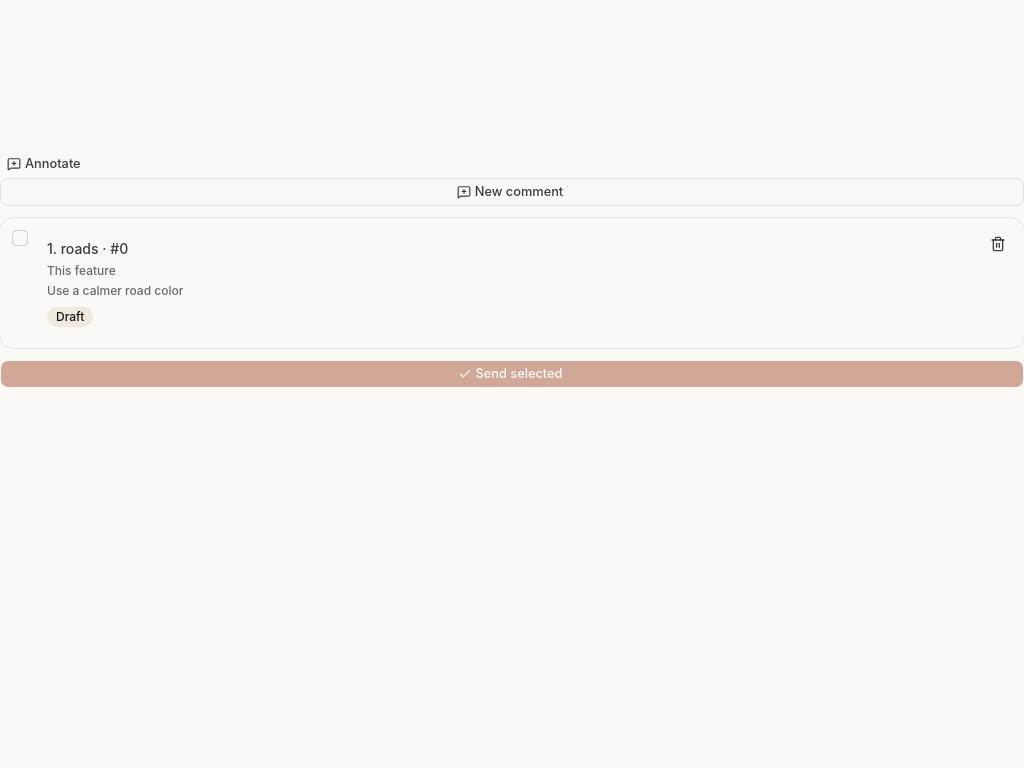
Test case: MapDesignComments › edits and deletes a saved draft from its popover using its existing id and version
The image size is (1024, 768).
Click the button "1. roads · #0 This feature Use a calmer road color Draft".
click(80, 248)  # box x1=36 y1=230 x2=976 y2=336
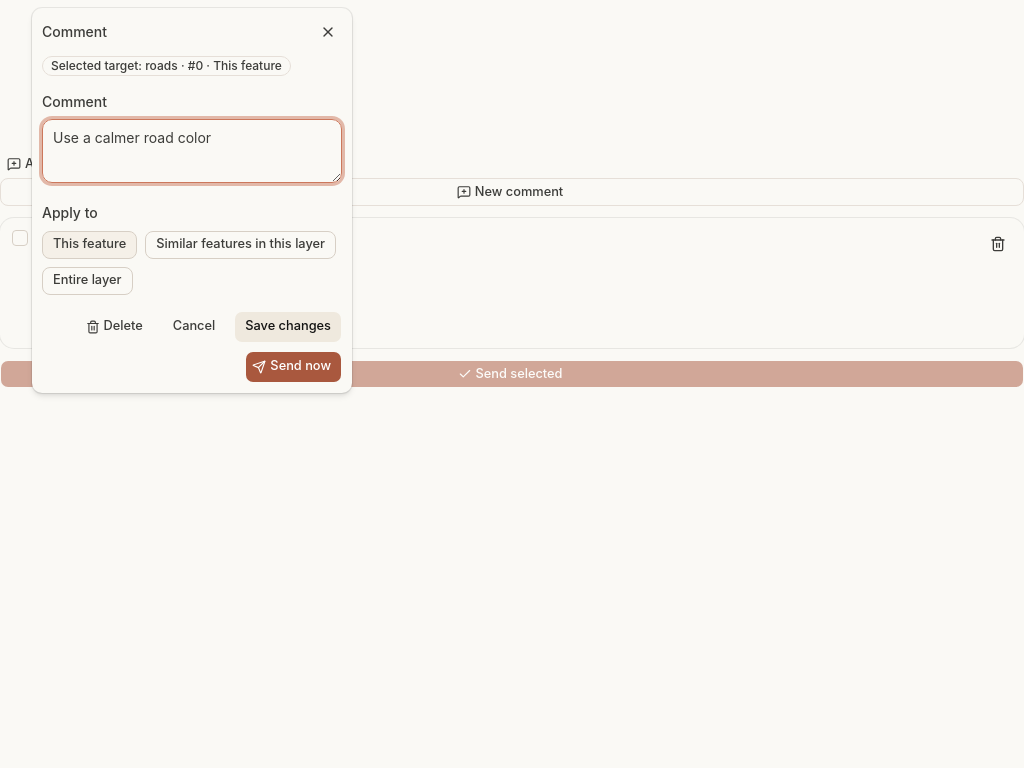
Check: the text box labelled "Comment" is enabled
Replace the text in the text box labelled "Comment" with "Updated instruction" at (192, 151), box x1=42 y1=119 x2=342 y2=183
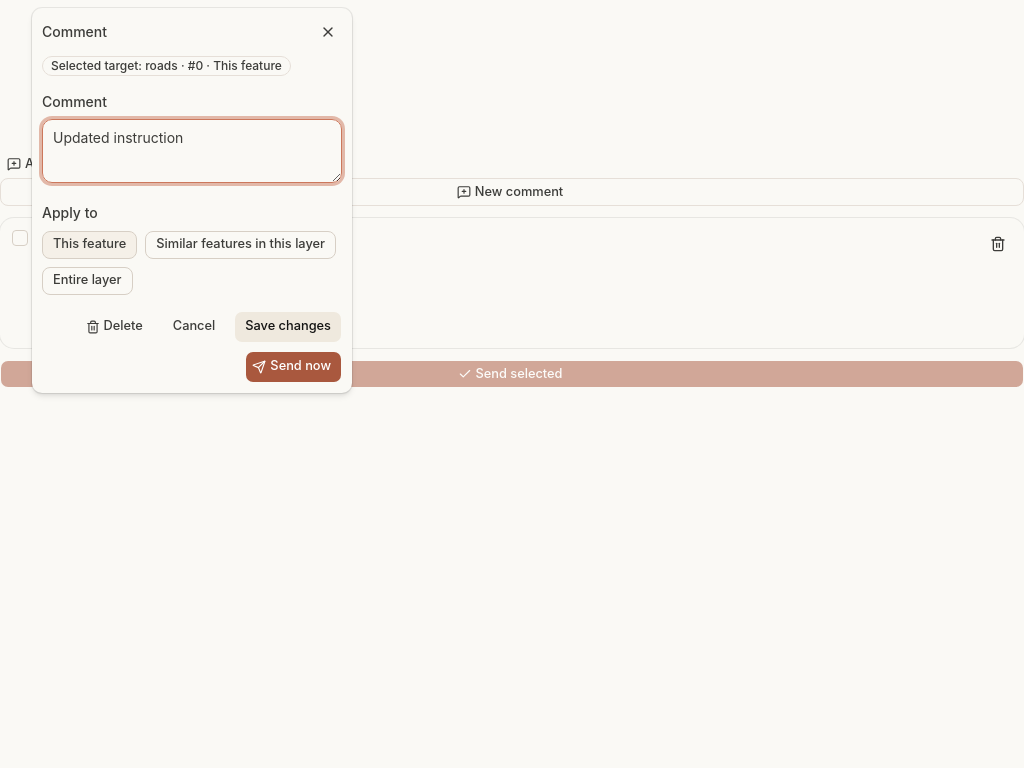
Click the button "Save changes".
click(288, 326)  # box x1=234 y1=310 x2=342 y2=342
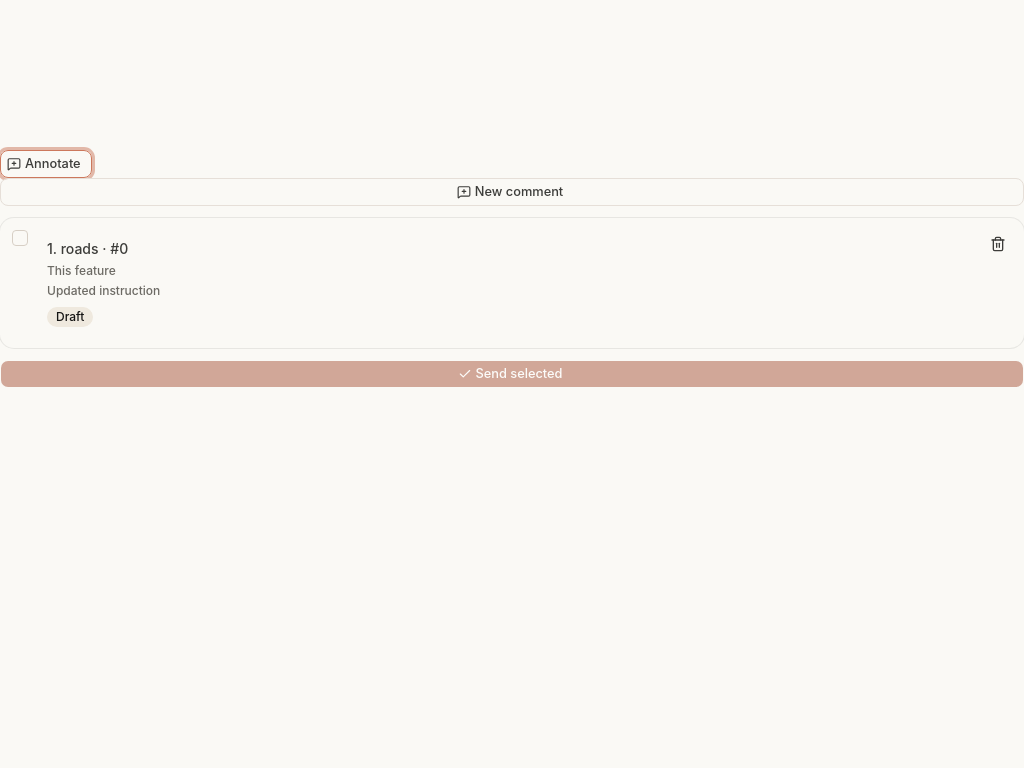
Check: the dialog is gone
Click the button "1. roads · #0 This feature Updated instruction Draft".
click(80, 248)  # box x1=36 y1=230 x2=976 y2=336
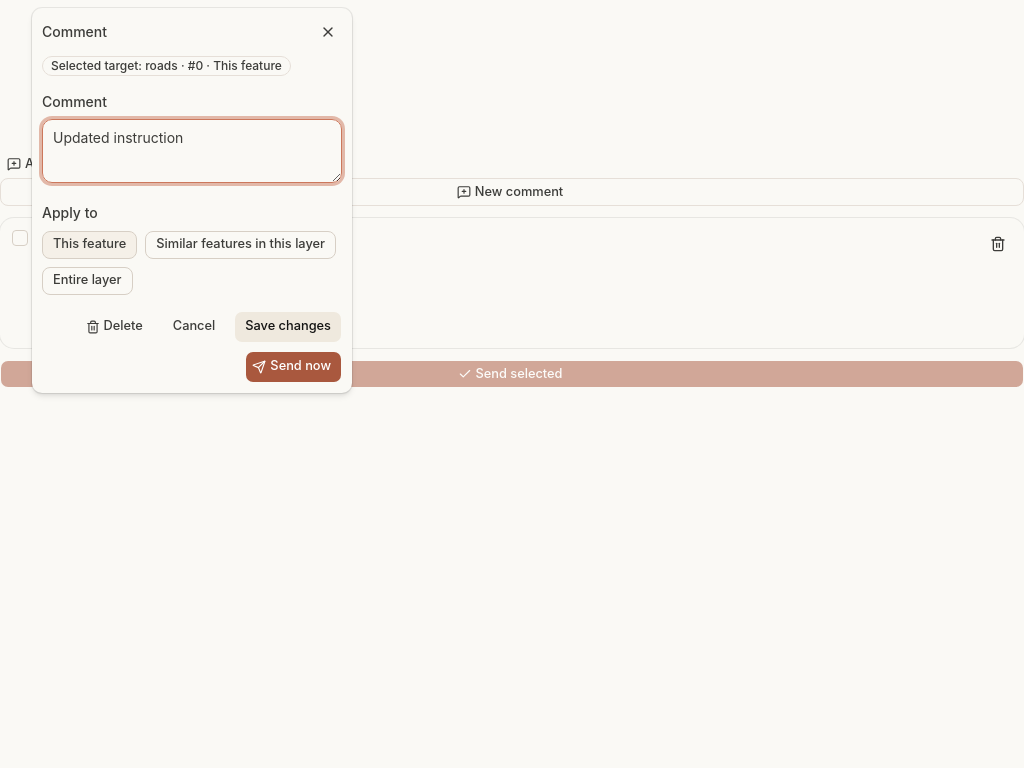
Click the button "Delete".
click(116, 326)  # box x1=78 y1=310 x2=154 y2=342
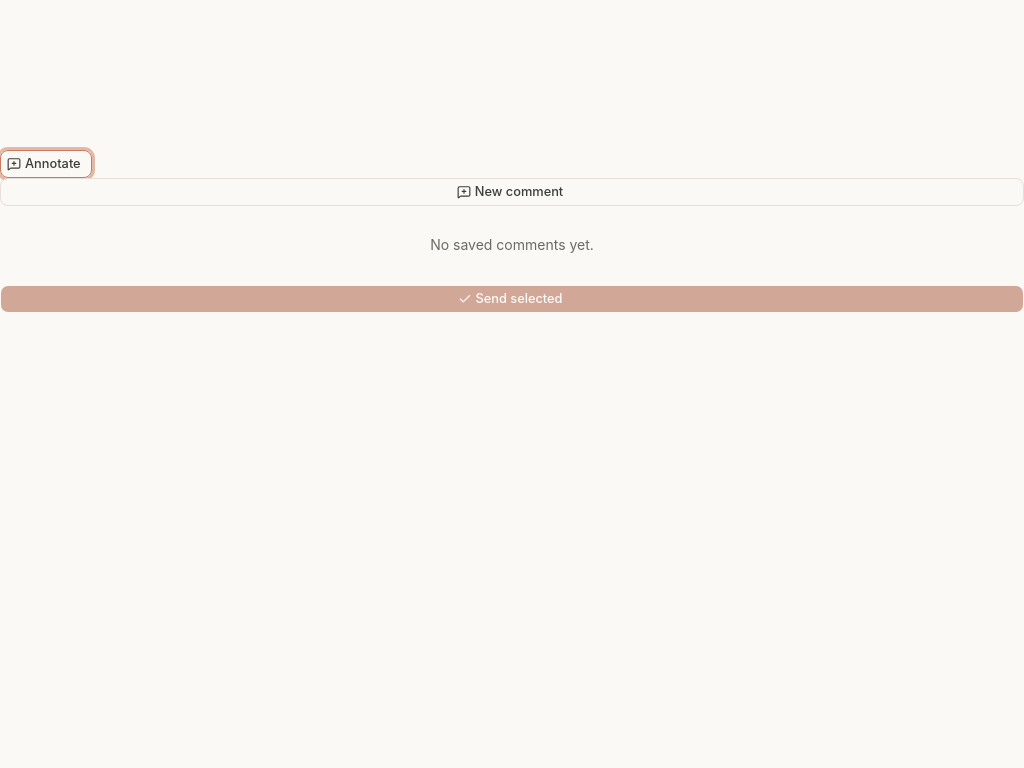
Check: the button "1. roads" is gone
